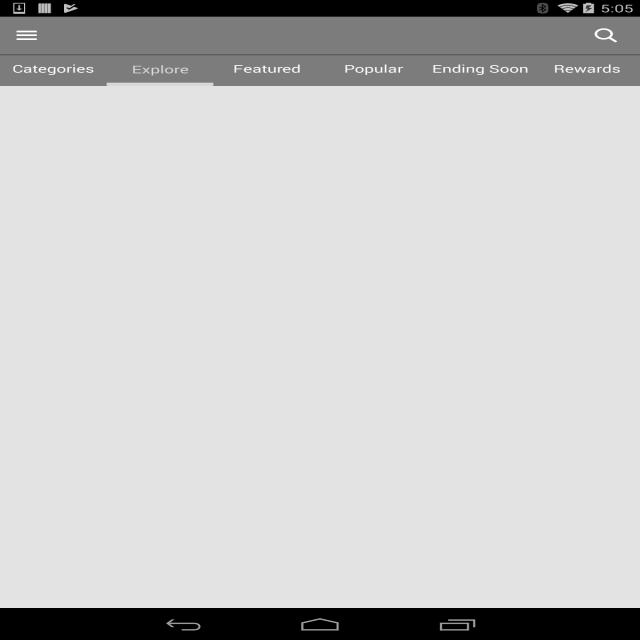Button: (0, 54, 107, 86), (213, 54, 320, 86), (320, 54, 427, 86), (533, 54, 640, 86), (107, 54, 213, 86), (427, 54, 533, 86)
ImageView: (16, 30, 37, 40)
TextView: (571, 16, 640, 54)
